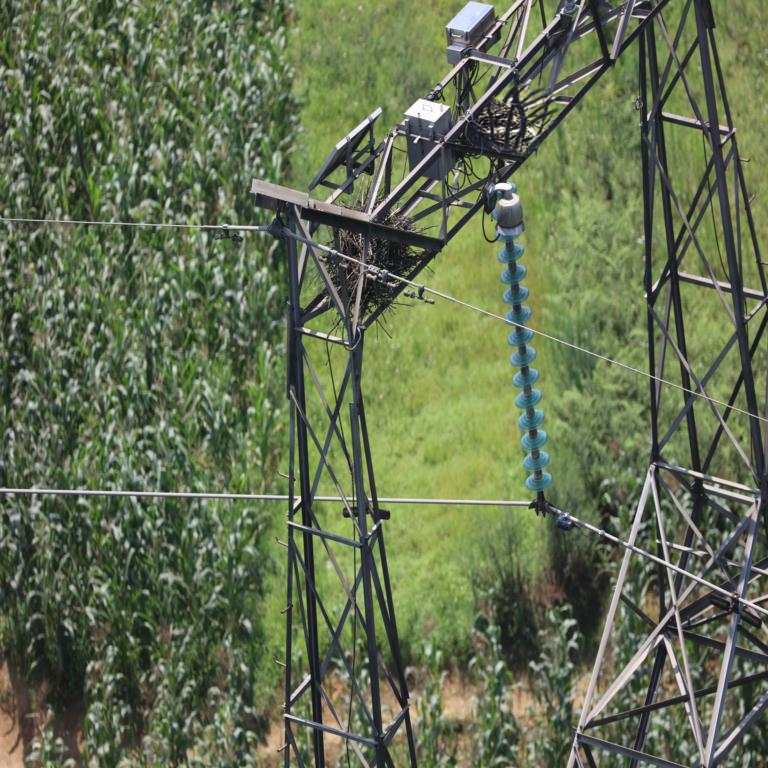nest: (333, 203, 412, 311), (461, 100, 539, 147)
